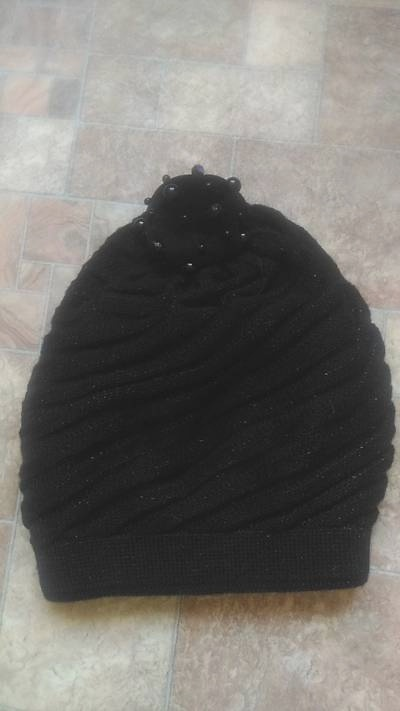Hat: (12, 146, 387, 622)
